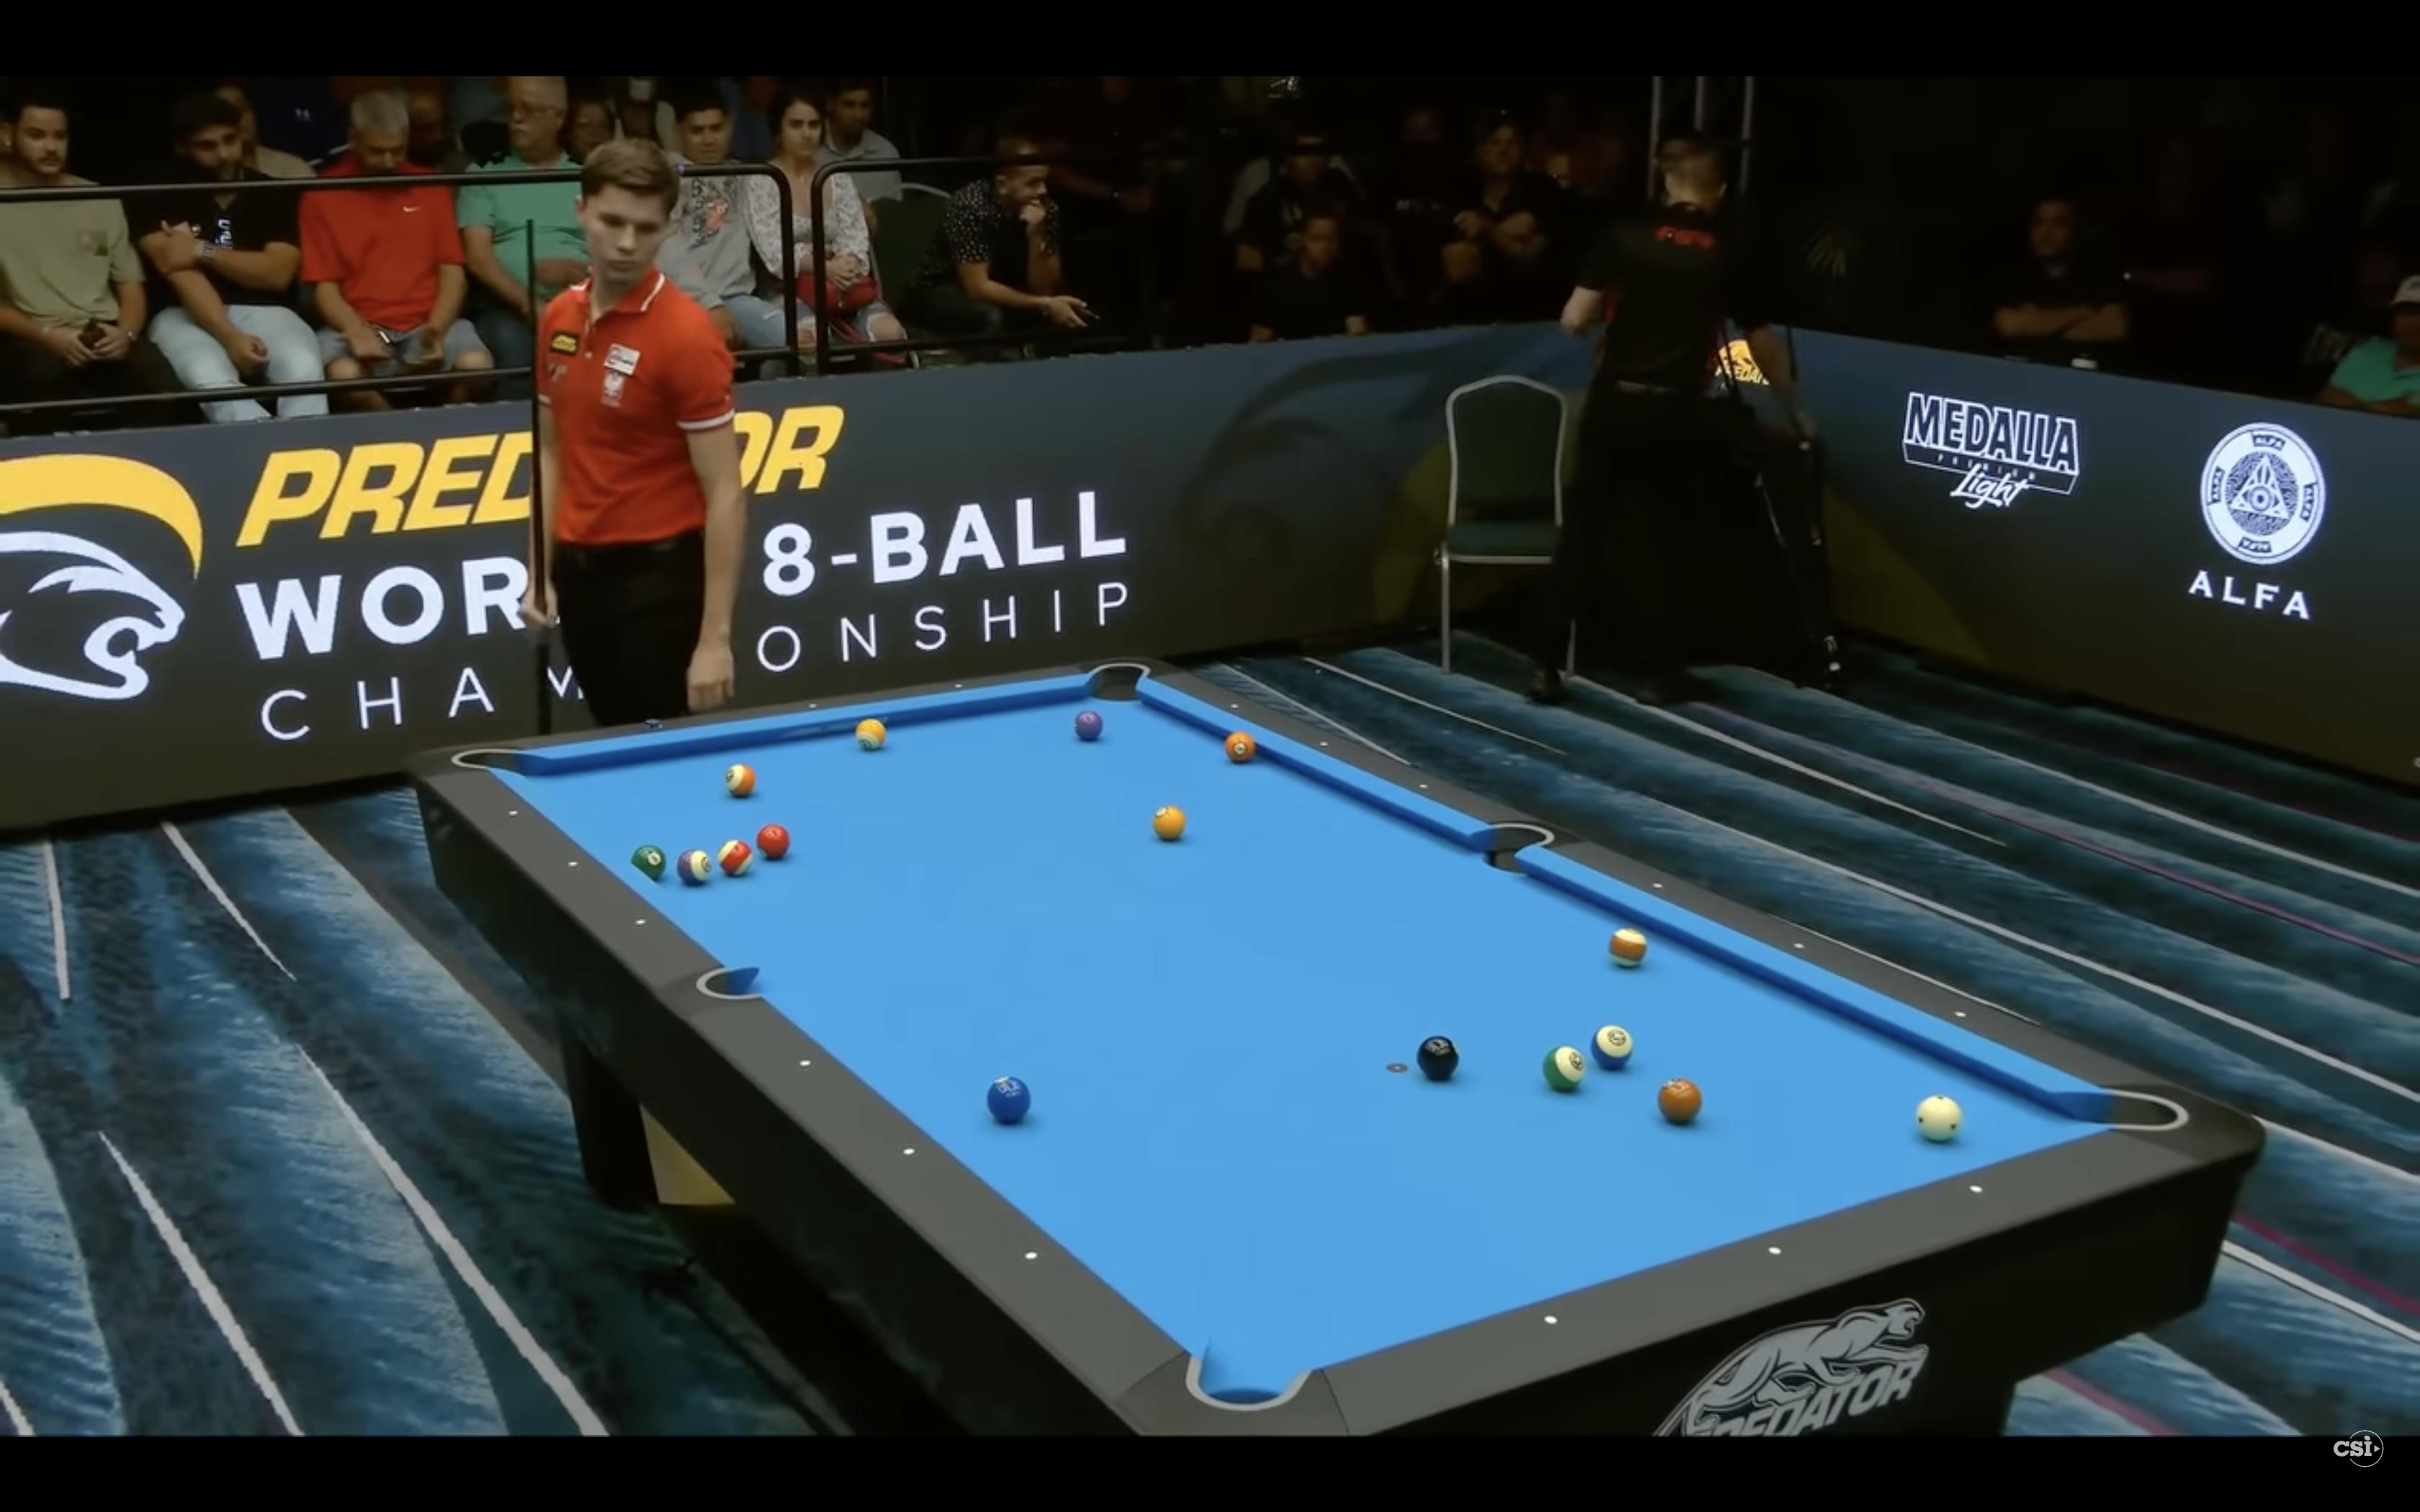Black: (1416, 1035, 1458, 1082)
Cue: (1916, 1094, 1962, 1143)
Dot: (1023, 1251, 1038, 1261), (1768, 1245, 1782, 1256), (1544, 1315, 1558, 1326), (1969, 1185, 1983, 1193), (902, 1148, 915, 1157), (800, 1059, 812, 1068), (1953, 1010, 1967, 1017), (634, 918, 645, 927), (1793, 942, 1805, 949), (568, 861, 578, 867), (1319, 740, 1328, 747), (1652, 883, 1662, 888), (509, 810, 519, 815), (808, 704, 817, 709), (1230, 704, 1239, 709), (1420, 784, 1427, 789), (955, 685, 963, 688)
Solid: (1659, 1078, 1702, 1125), (988, 1077, 1031, 1122), (631, 845, 666, 880), (758, 824, 789, 861), (1223, 732, 1256, 765), (1153, 807, 1185, 840), (1073, 711, 1103, 740)
Striped: (1591, 1024, 1634, 1070), (1544, 1045, 1584, 1092), (1610, 928, 1648, 969), (718, 841, 753, 874), (678, 850, 711, 885), (725, 765, 756, 796), (857, 719, 885, 749)
